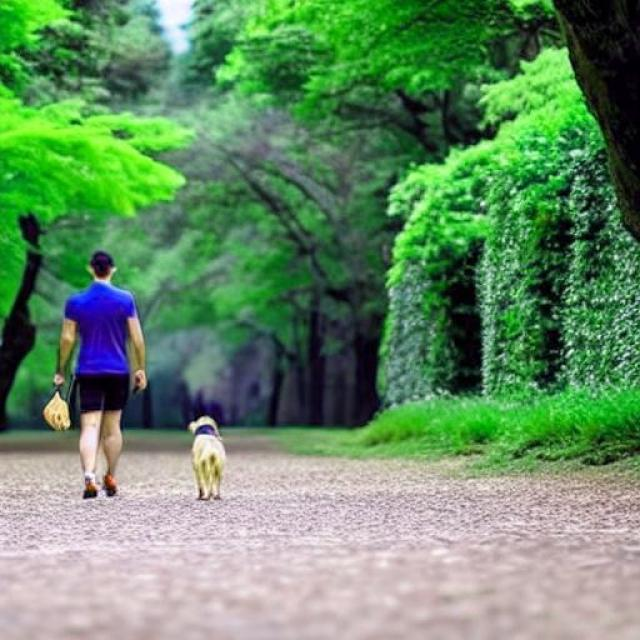Unleashed_Dog: (74, 376, 227, 500)
